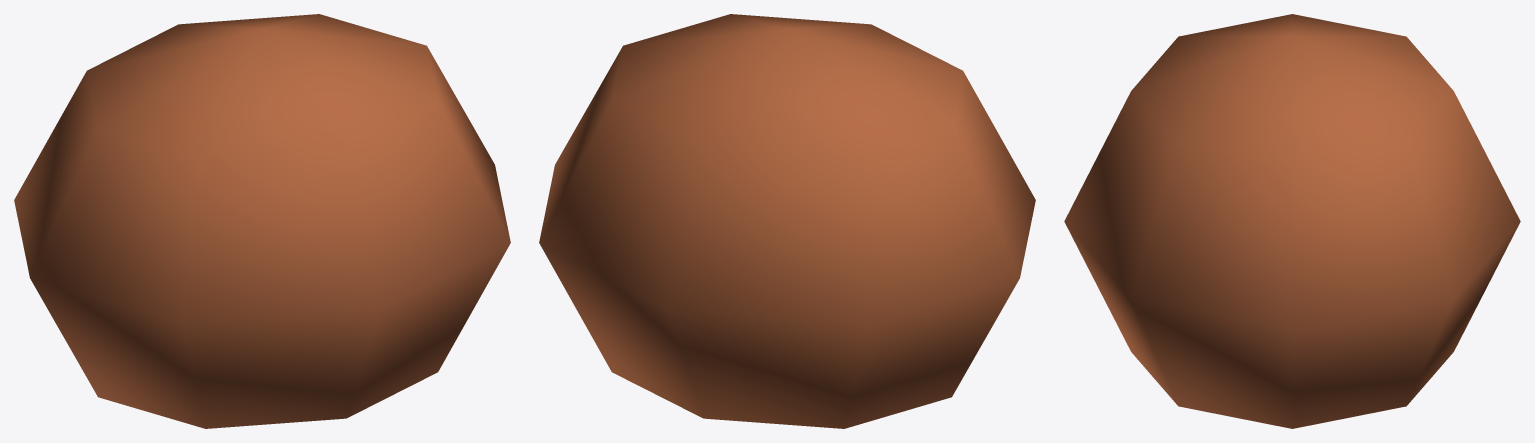
The model's file is ore_clay_low.glb.
3 renders of one model, left to right at view 1: azimuth 30°, elevation 25°; view 2: azimuth 150°, elevation 25°; view 3: azimuth 270°, elevation 25°, orthographic. The views are drawn at different scales.
Bounding box in the file's own units: 0.26 × 0.205 × 0.23.
